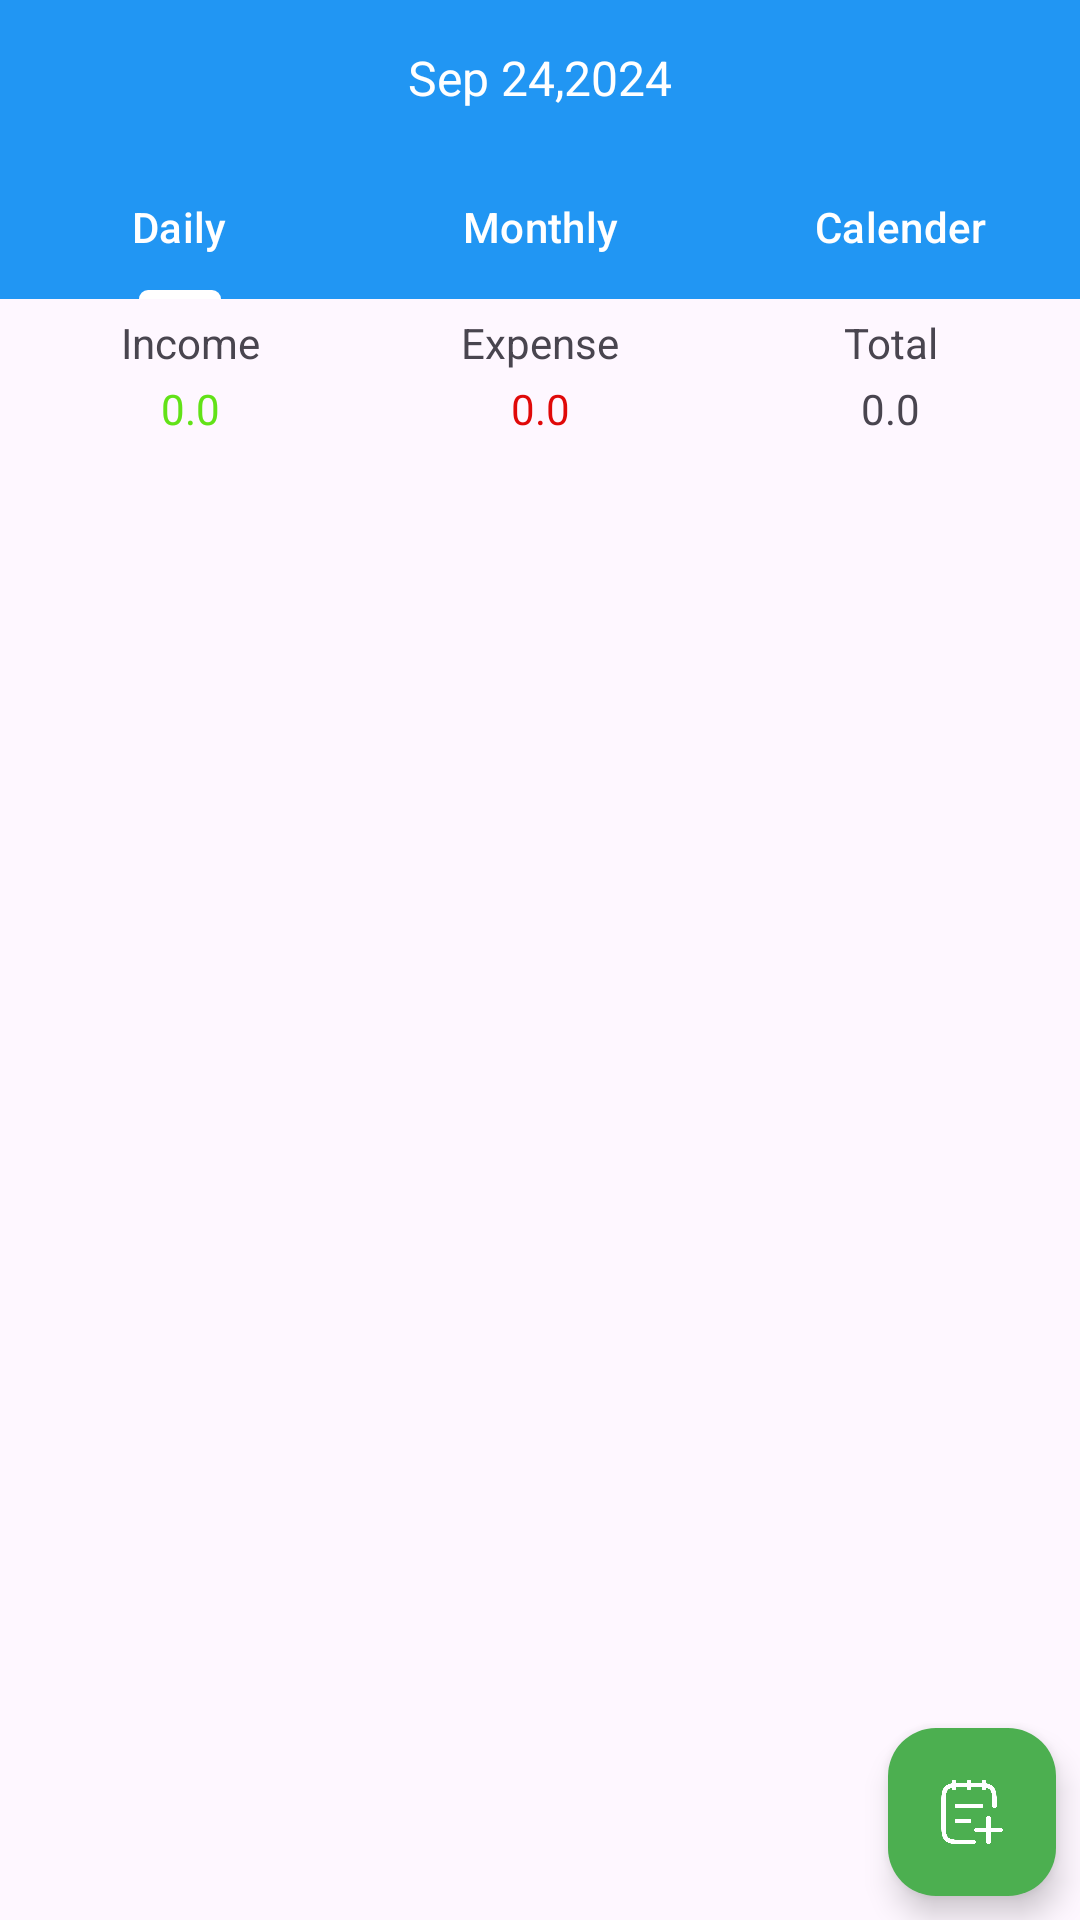

Icons on this 1080x1920 Android screen, each with the point to tap as [x,y]:
add plus: [972,1812]
